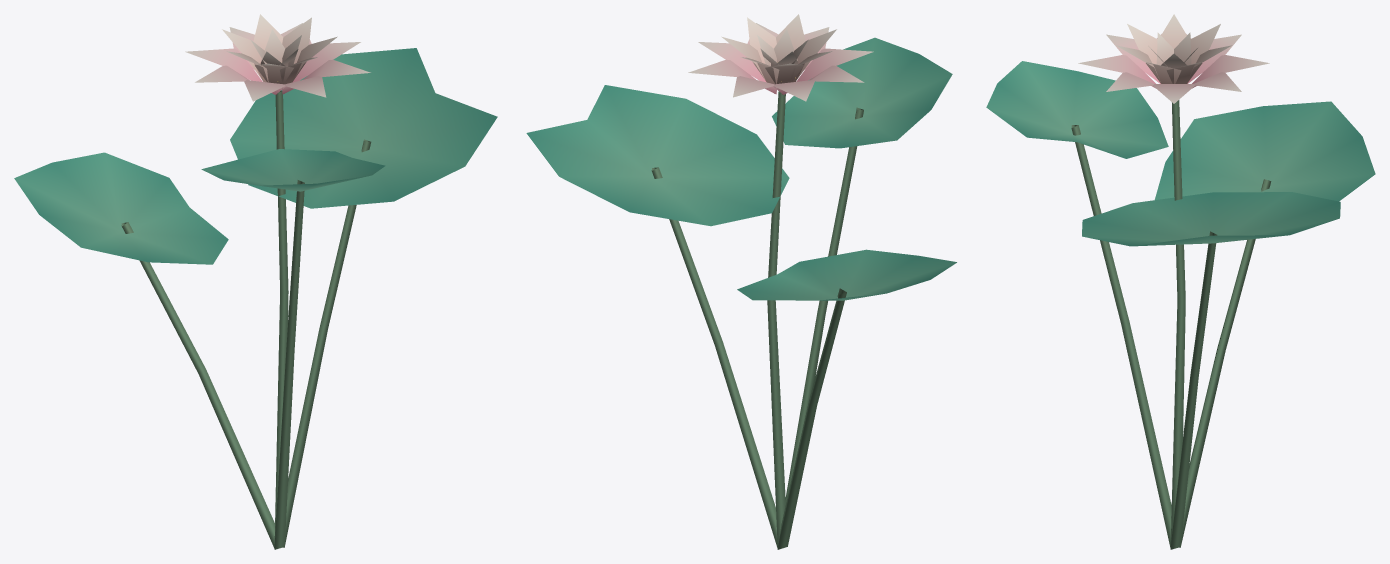
Rendered from east_lotus.glb.
The picture shows the model from 3 angles, left to right: view 1: azimuth 30°, elevation 25°; view 2: azimuth 150°, elevation 25°; view 3: azimuth 270°, elevation 25°; orthographic projection.
Visible parts, largest first — view 1: east_lotus; view 2: east_lotus; view 3: east_lotus.
Part boxes in pixels (bbox=[...]): east_lotus: bbox=[14, 14, 497, 549]; east_lotus: bbox=[526, 14, 956, 549]; east_lotus: bbox=[986, 14, 1375, 549].
Bounding box in the file's own units: 1.46 × 1.81 × 1.26.
